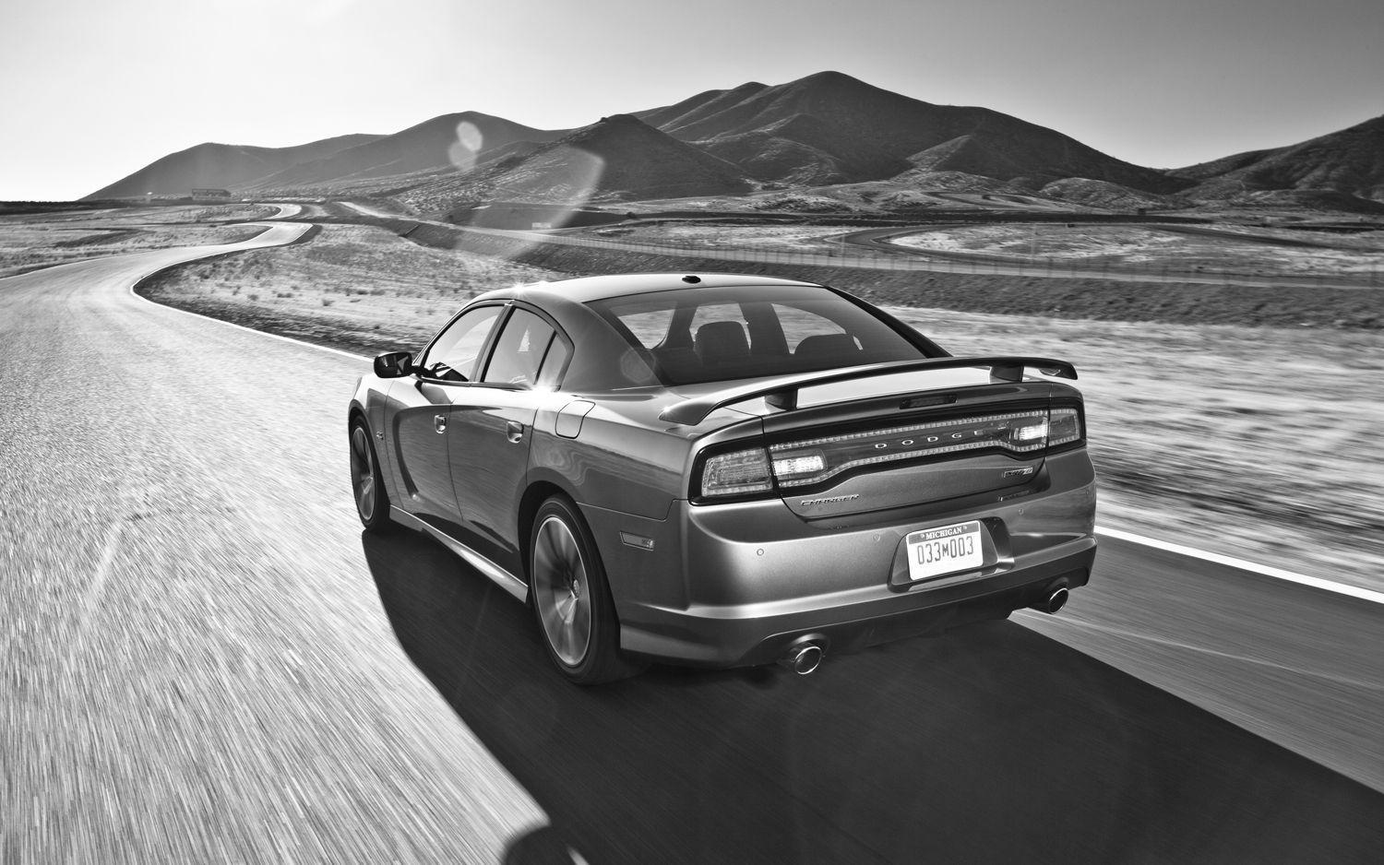car: (339, 269, 1106, 691)
